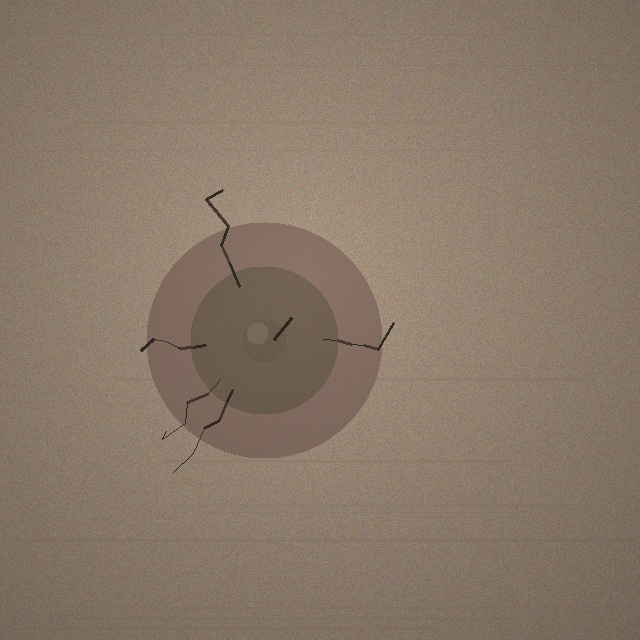crack: (146, 222, 382, 458)
